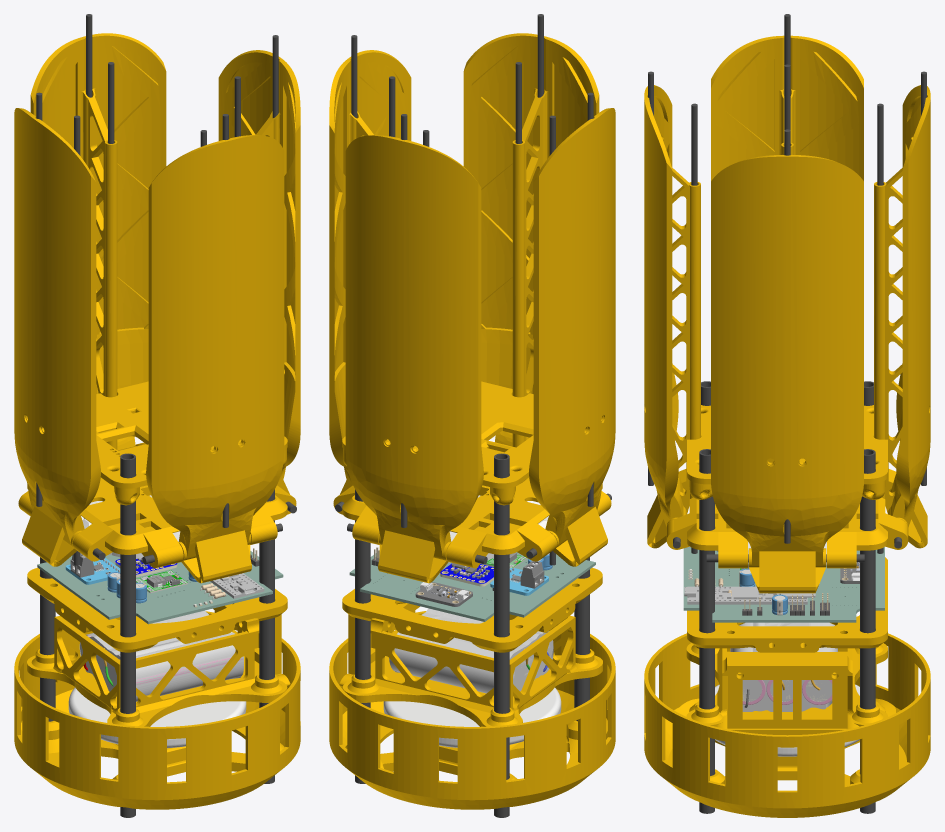
File: CANSAT.glb
3 views of the same model, side by side, from view 1: azimuth 30°, elevation 25°; view 2: azimuth 150°, elevation 25°; view 3: azimuth 270°, elevation 25° (orthographic).
Parts seen in each view (by area): view 1: Node2, Node14, Node16, Node9, Node13, Node15, Node39, Node4; view 2: Node2, Node14, Node16, Node9, Node13, Node15, Node27, Node20; view 3: Node2, Node14, Node16, Node9, Node13, Node4, Node1.
Boxes of the visible parts, left/top/right/bottom form: Node2: left=14, top=33, right=300, bottom=767; Node14: left=14, top=611, right=300, bottom=809; Node16: left=36, top=14, right=296, bottom=817; Node9: left=37, top=551, right=283, bottom=624; Node13: left=79, top=610, right=243, bottom=701; Node15: left=68, top=495, right=246, bottom=748; Node39: left=65, top=558, right=120, bottom=584; Node4: left=210, top=573, right=264, bottom=598; Node2: left=329, top=33, right=615, bottom=766; Node14: left=329, top=611, right=615, bottom=809; Node16: left=335, top=14, right=611, bottom=817; Node9: left=349, top=552, right=595, bottom=621; Node13: left=389, top=608, right=553, bottom=693; Node15: left=383, top=495, right=561, bottom=747; Node27: left=415, top=563, right=493, bottom=606; Node20: left=520, top=561, right=544, bottom=588; Node2: left=644, top=35, right=930, bottom=785; Node14: left=644, top=625, right=930, bottom=817; Node16: left=648, top=14, right=926, bottom=813; Node9: left=683, top=547, right=884, bottom=622; Node13: left=730, top=622, right=837, bottom=711; Node4: left=684, top=587, right=807, bottom=604; Node1: left=687, top=586, right=815, bottom=601.
Size of the model in its own units: 145 by 393 by 145.
